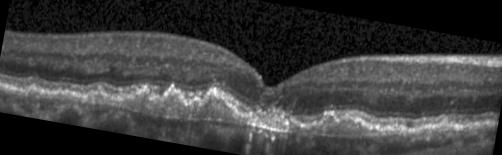subretinal_hyperreflective_material: (84, 82, 409, 134), (415, 115, 464, 133), (25, 84, 43, 99)
